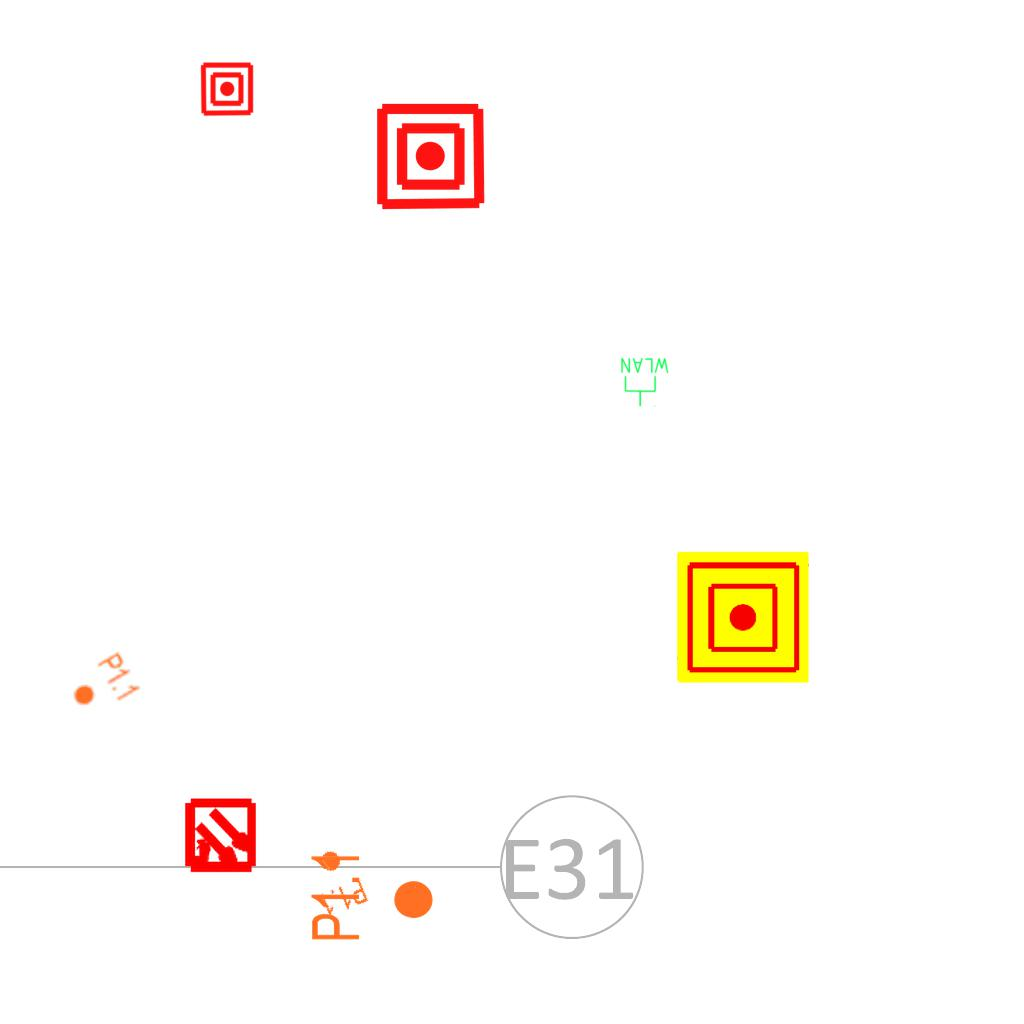Downlight_LED_Einbauleuchten_Flur: (308, 850, 436, 943), (63, 650, 143, 722), (303, 842, 371, 920)
NAM-Nichtautomatischer_Melder: (677, 551, 809, 683), (374, 100, 487, 213), (199, 61, 255, 117)
OT_Multisensormelder_(Kombination_RMO_WMD): (164, 781, 277, 894)
WLAN: (619, 356, 671, 408)
